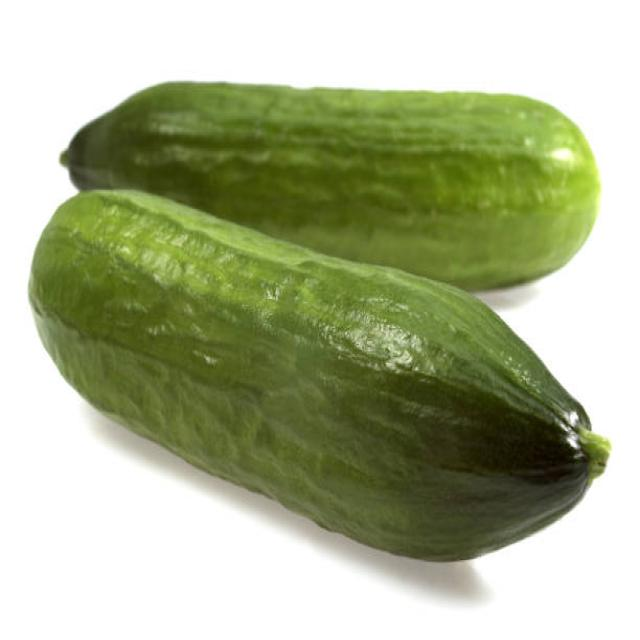cucumber: (28, 188, 594, 564), (64, 79, 598, 292)
